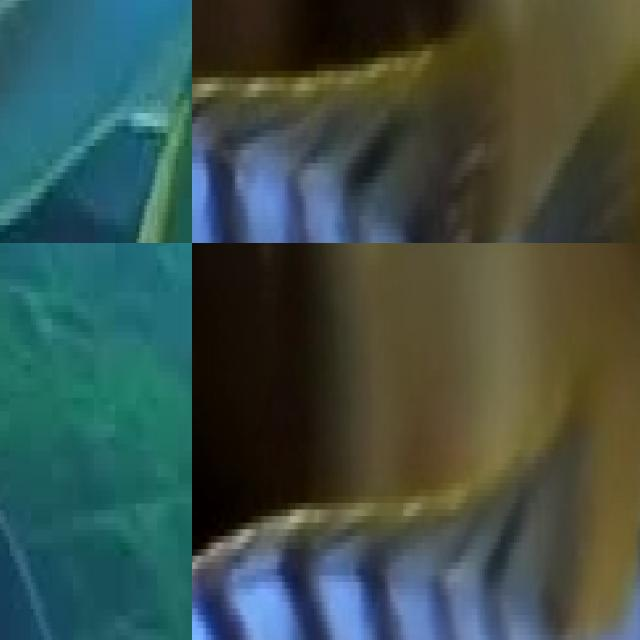fish: (192, 18, 640, 243), (0, 0, 192, 243)
